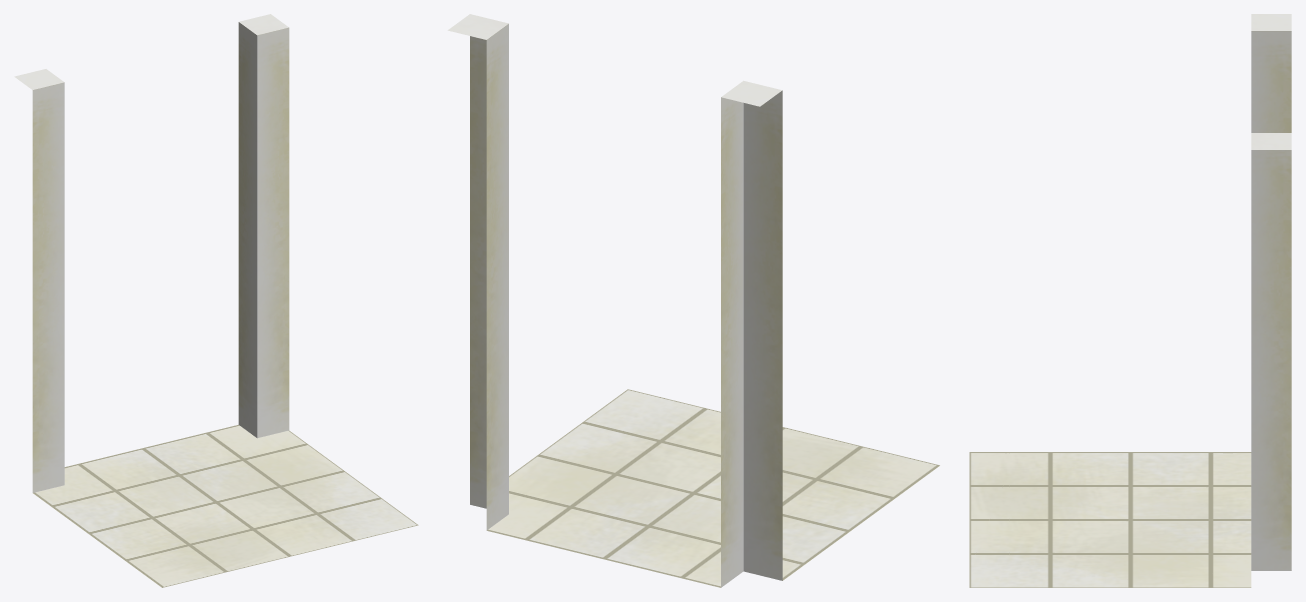
File: maze_4way2columnsSide.FBX
The picture shows the model from 3 angles, left to right: view 1: azimuth 30°, elevation 25°; view 2: azimuth 150°, elevation 25°; view 3: azimuth 270°, elevation 25°; orthographic projection. The views are drawn at different scales.
Visible parts, largest first — view 1: Plane01; view 2: Plane01; view 3: Plane01.
Boxes of the visible parts, left/top/right/bottom form: Plane01: left=14, top=14, right=418, bottom=587; Plane01: left=447, top=14, right=939, bottom=587; Plane01: left=969, top=14, right=1291, bottom=587.
Size of the model in its own units: 32 by 48 by 32.
